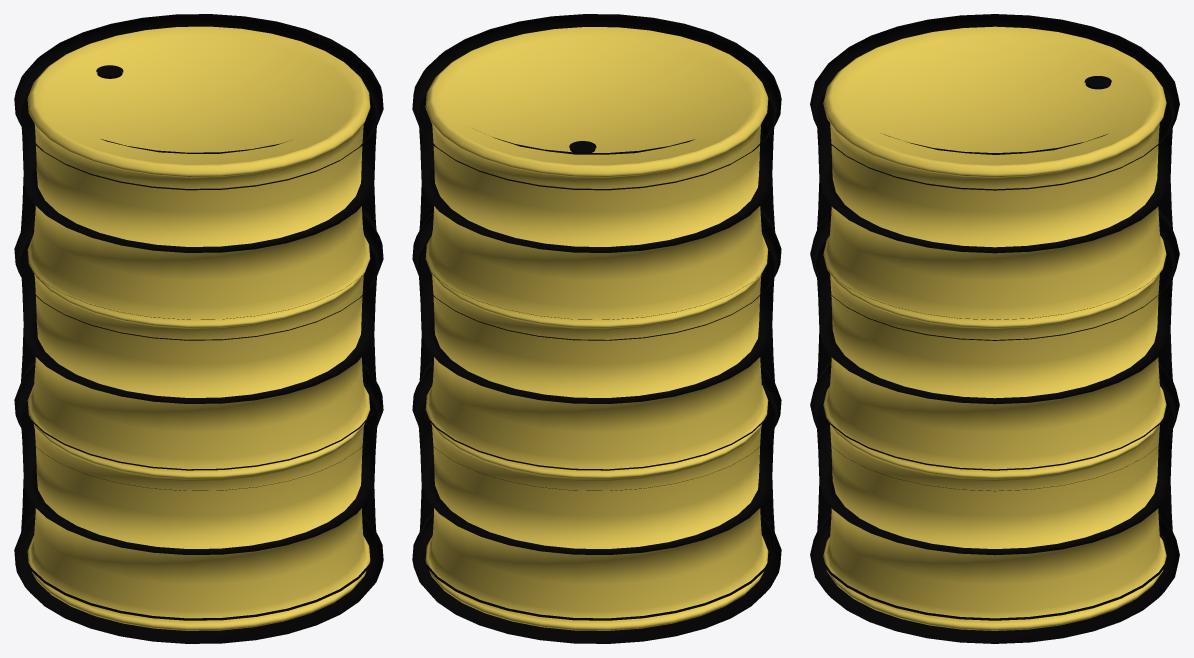
The model's file is Tonel.fbx.
The picture shows the model from 3 angles, left to right: view 1: azimuth 30°, elevation 25°; view 2: azimuth 150°, elevation 25°; view 3: azimuth 270°, elevation 25°; orthographic projection.
Visible parts, largest first — view 1: Tonel; view 2: Tonel; view 3: Tonel.
Boxes of the visible parts, x1,y1,x2,y2 form: Tonel: [14, 14, 383, 643]; Tonel: [412, 14, 781, 643]; Tonel: [810, 14, 1179, 643].
Bounding box in the file's own units: 222 × 324 × 222.
